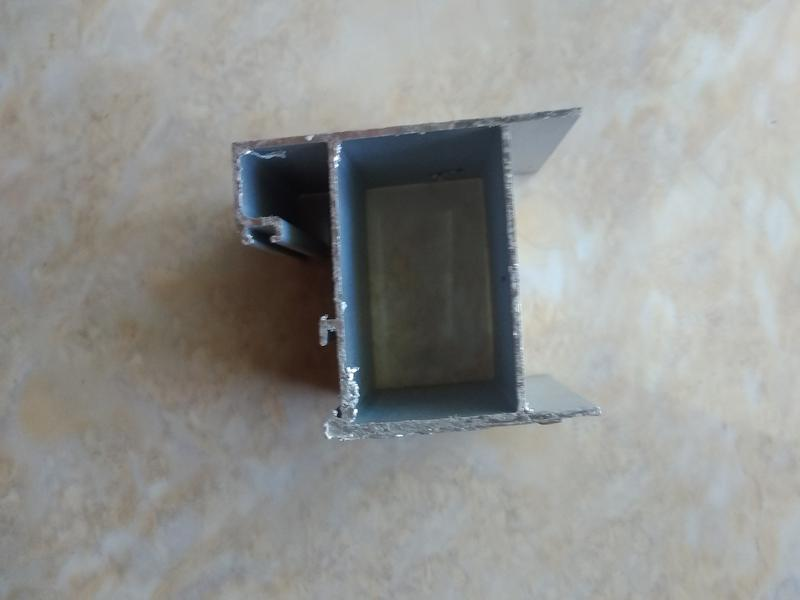Aluminium_2: (154, 84, 633, 448)
